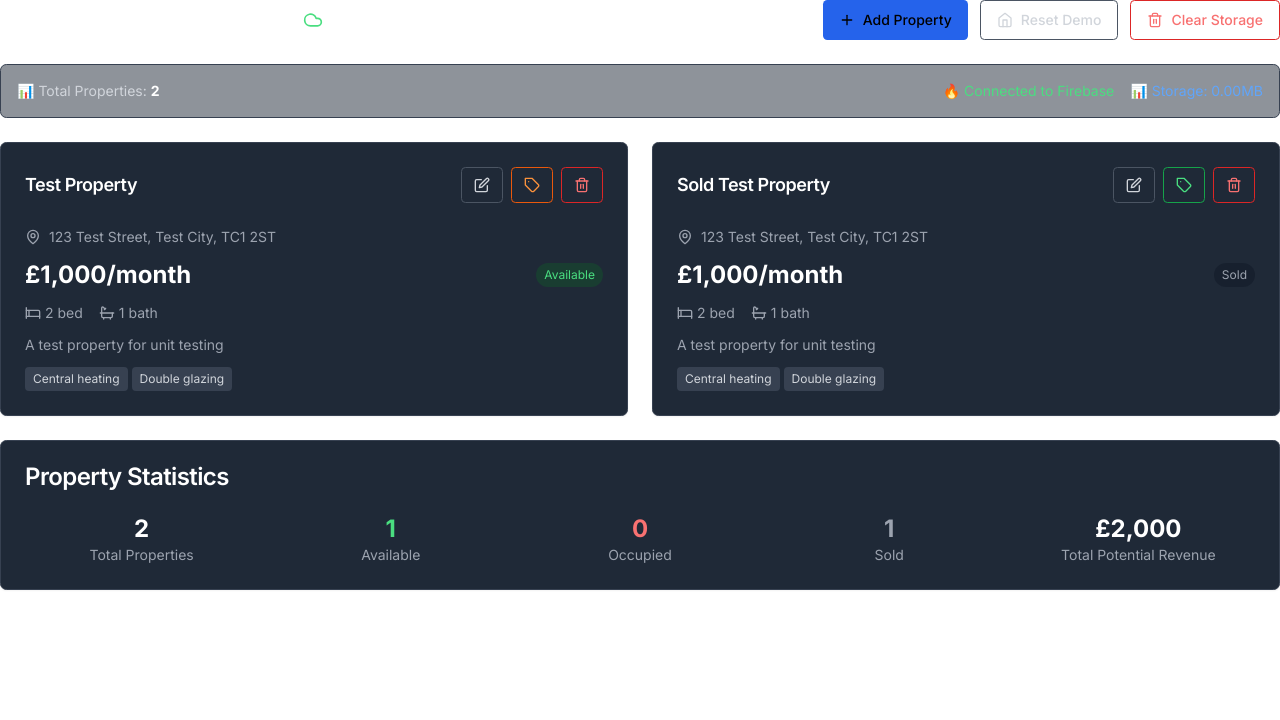
Test case: 🏷️ PropertyManager - Toggle Sold Functionality › 🔒 Permission and State Tests › should not allow toggling when editing another property
expect the heading "Test Property" is shown: met, box [25,171,137,199]
Click Edit button to enter editing state
Click the 1st button titled "Edit Property" at point(482, 185), box [461,167,503,203]
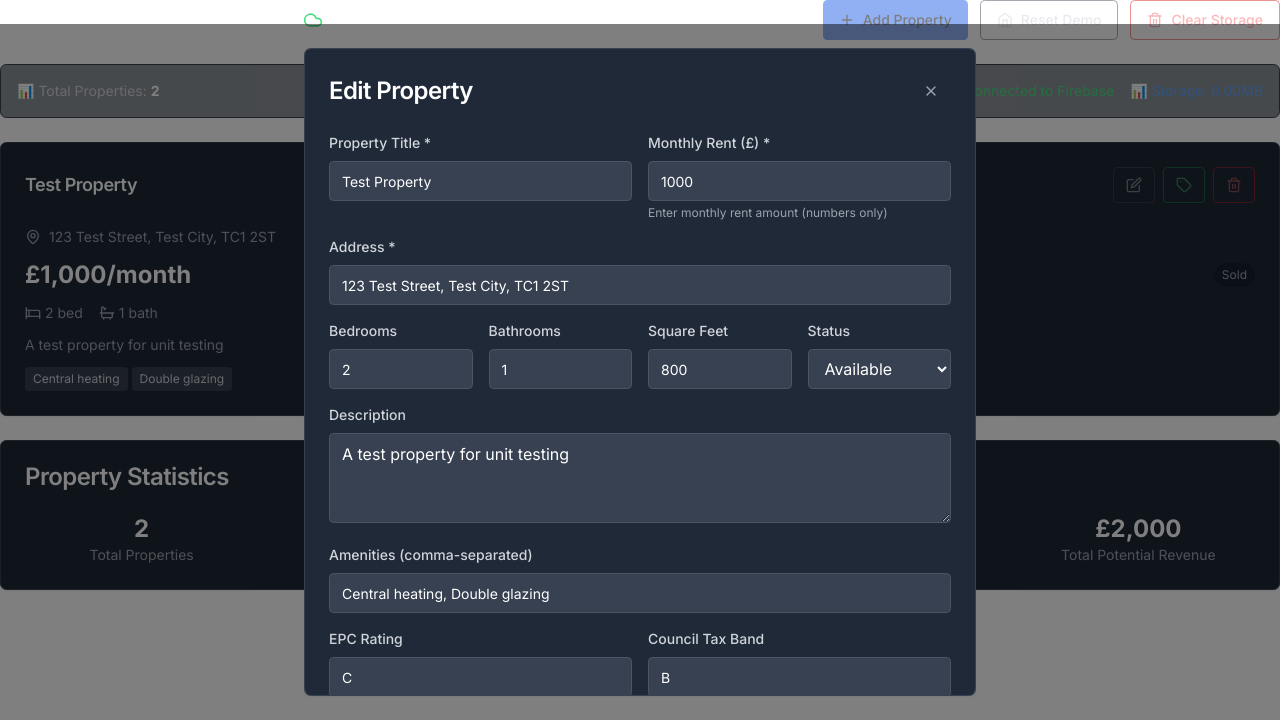
expect the button named "Mark as" is disabled: met, box [511,167,553,203]
